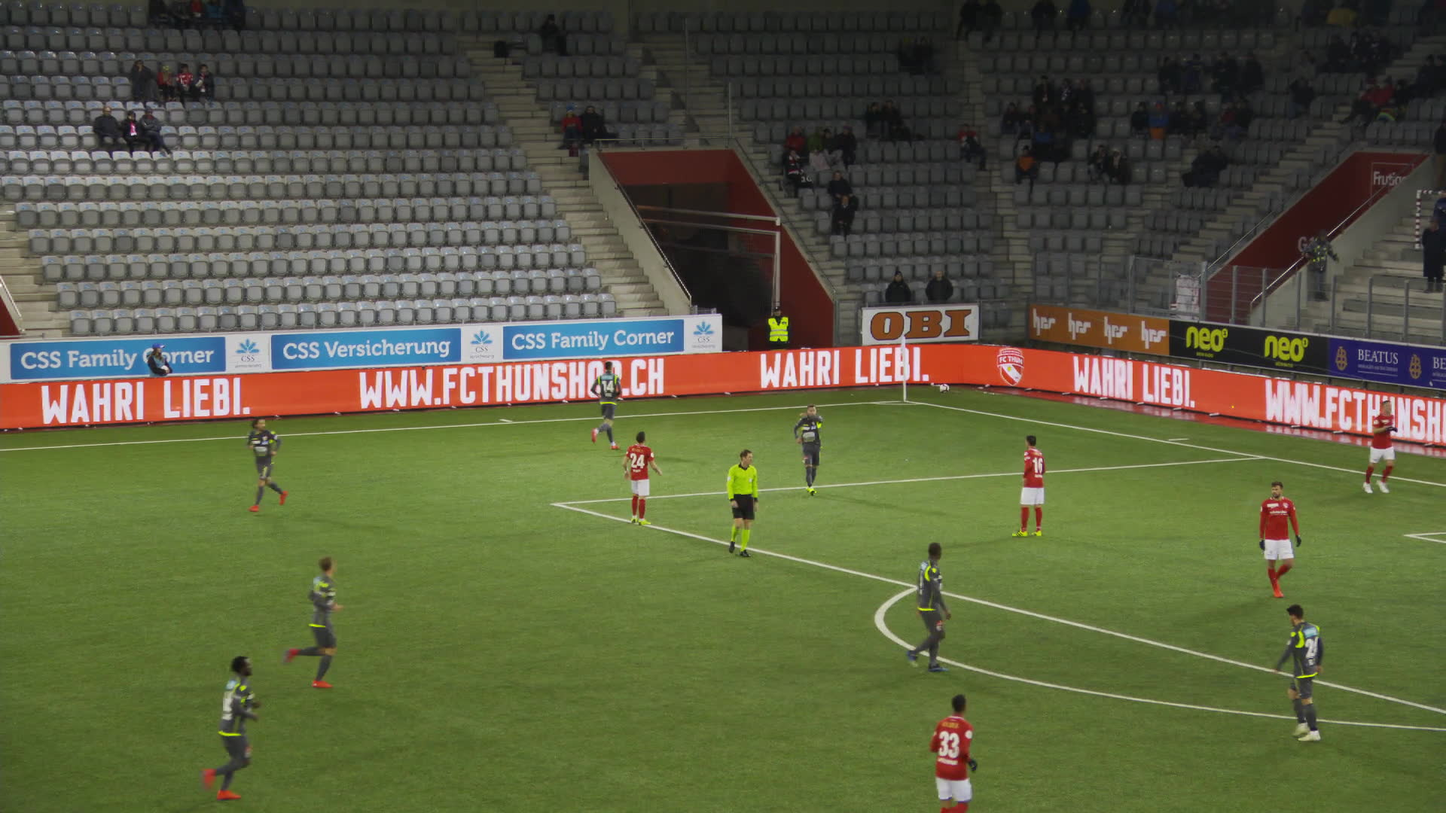ball: (941, 383, 950, 391)
player: (192, 653, 262, 802), (276, 552, 347, 688), (1277, 606, 1335, 744), (905, 540, 953, 673), (926, 691, 975, 812), (1256, 479, 1303, 598), (1010, 432, 1047, 537), (621, 430, 661, 525), (249, 416, 288, 512), (1362, 400, 1399, 495), (792, 402, 825, 495), (589, 361, 622, 450)
referee: (723, 449, 761, 558)
